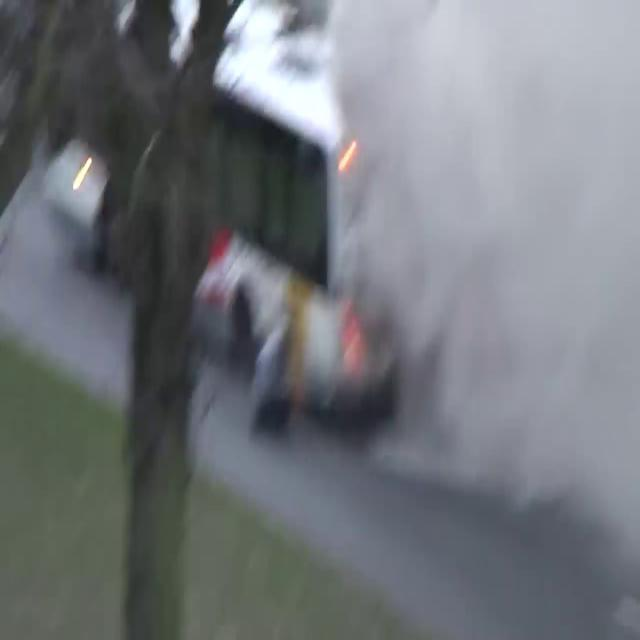Smoke: (334, 0, 640, 549)
